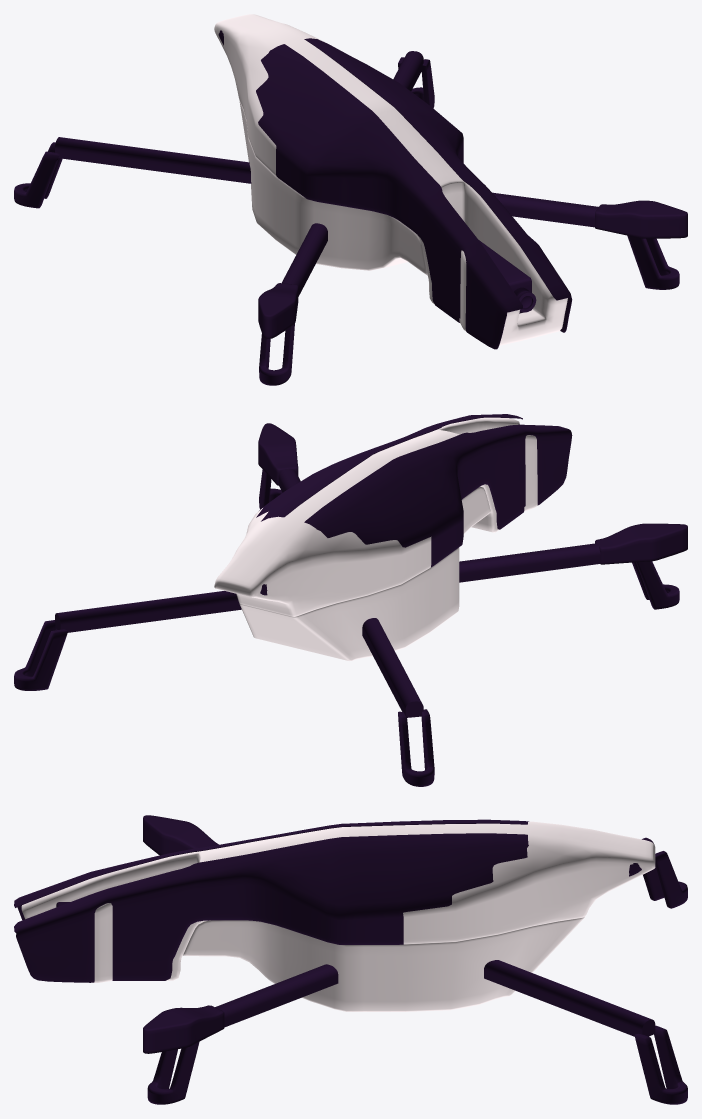
The model's file is body_02_black.35cf5393.glb.
3 renders of one model, top to bottom at view 1: azimuth 30°, elevation 25°; view 2: azimuth 150°, elevation 25°; view 3: azimuth 270°, elevation 25°, orthographic. The views are drawn at different scales.
Parts seen in each view (by area): view 1: Extrude_2; view 2: Extrude_2; view 3: Extrude_2.
Boxes of the visible parts, x1,y1,x2,y2 form: Extrude_2: (14,14,687,385); Extrude_2: (14,414,687,786); Extrude_2: (14,815,687,1104).
Size of the model in its own units: 8.91 by 3.31 by 11.79.
